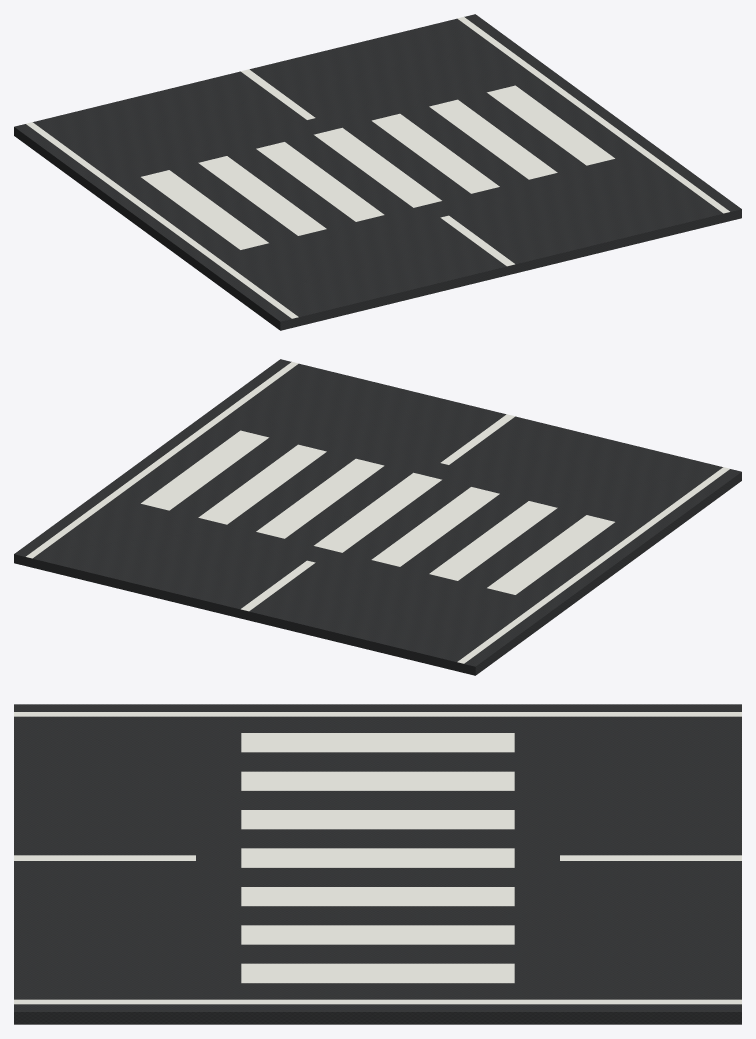
File: OAR_Road_ZebraCross_8m.fbx
3 renders of one model, top to bottom at view 1: azimuth 30°, elevation 25°; view 2: azimuth 150°, elevation 25°; view 3: azimuth 270°, elevation 25°, orthographic. The views are drawn at different scales.
Visible parts, largest first — view 1: Body, Markings.009_Mesh; view 2: Body, Markings.009_Mesh; view 3: Body, Markings.009_Mesh.
Boxes of the visible parts, box(x1,y1,x2,y2) form: Body: box(14, 14, 741, 330); Markings.009_Mesh: box(26, 17, 729, 318); Body: box(14, 359, 741, 675); Markings.009_Mesh: box(26, 362, 729, 663); Body: box(14, 704, 741, 1024); Markings.009_Mesh: box(14, 712, 741, 1004).
Size of the model in its own units: 8 by 0.153 by 8.
